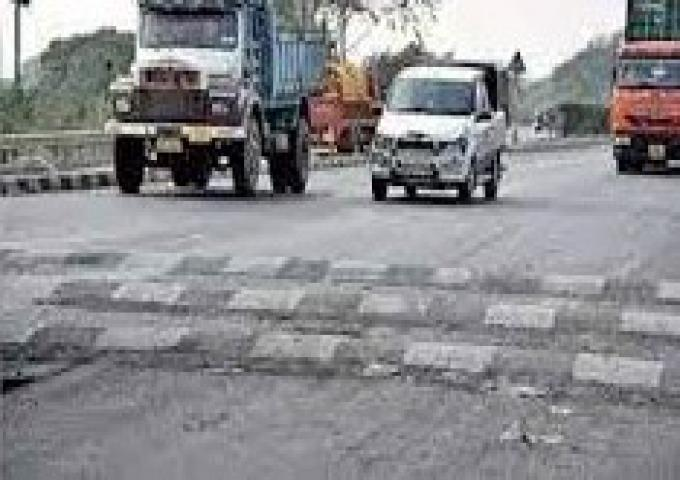speedbreaker: (0, 308, 677, 398), (3, 242, 677, 302)
